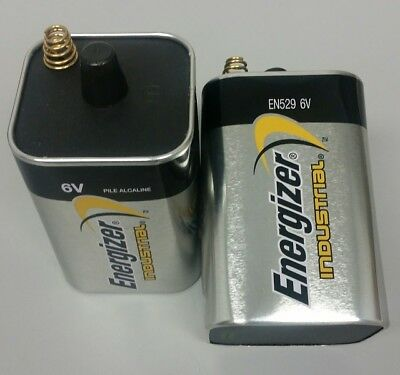6V: (8, 13, 209, 308), (194, 55, 373, 365)
